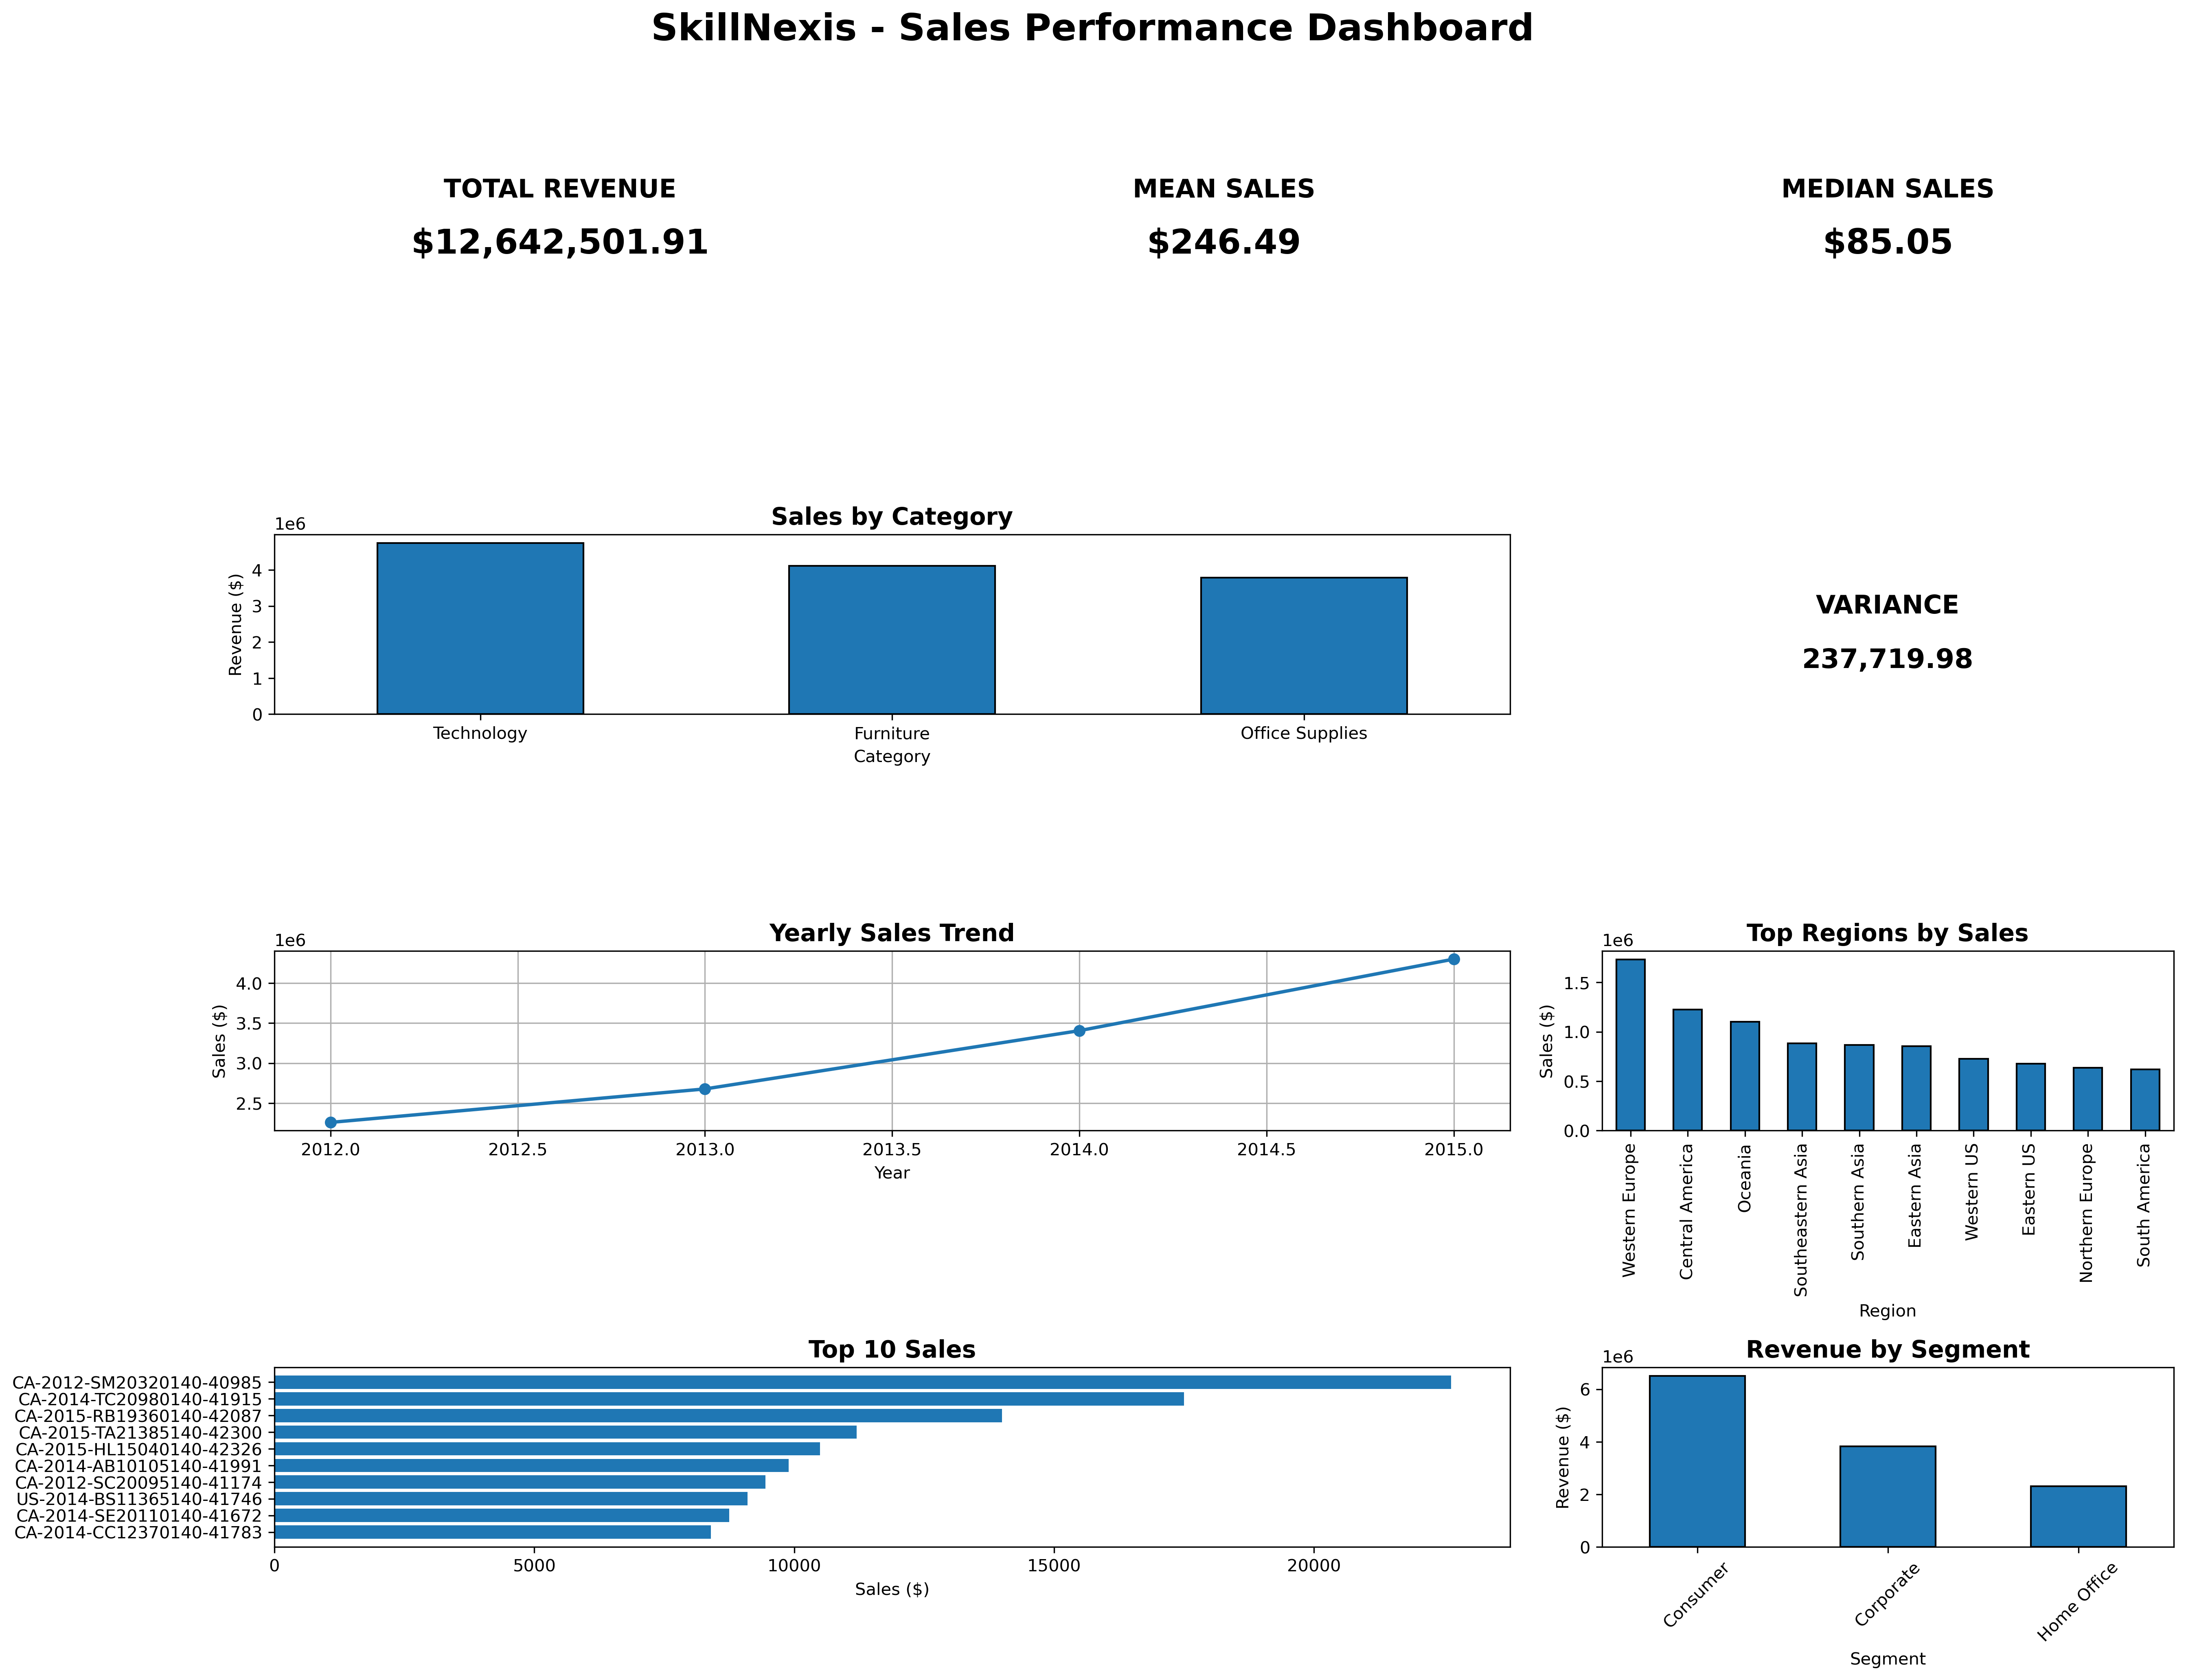

This screenshot's page, from the dashboard's own definition file:
{"tool":"powerbi","page":{"name":"Page 1","canvas":[1280,720],"ordinal":0},"visuals":[{"type":"image","box":[0,0,1280.3,720.4],"z":0}]}

Visuals, with their boxes on the page's 1280x720 design canvas (x1, y1, x2, y2). These are canvas units, not pixel positions in the 2186x1680 screenshot, which may show the page scaled, cropped or inside an application window:
image: (left=0, top=0, right=1280, bottom=720)
